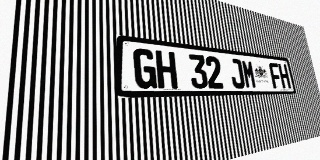2: (205, 56, 223, 89)
3: (188, 54, 208, 89)
F: (269, 62, 283, 88)
G: (133, 48, 157, 89)
H: (155, 50, 178, 89), (278, 63, 291, 88)
J: (229, 58, 246, 88)
M: (241, 59, 257, 88)
